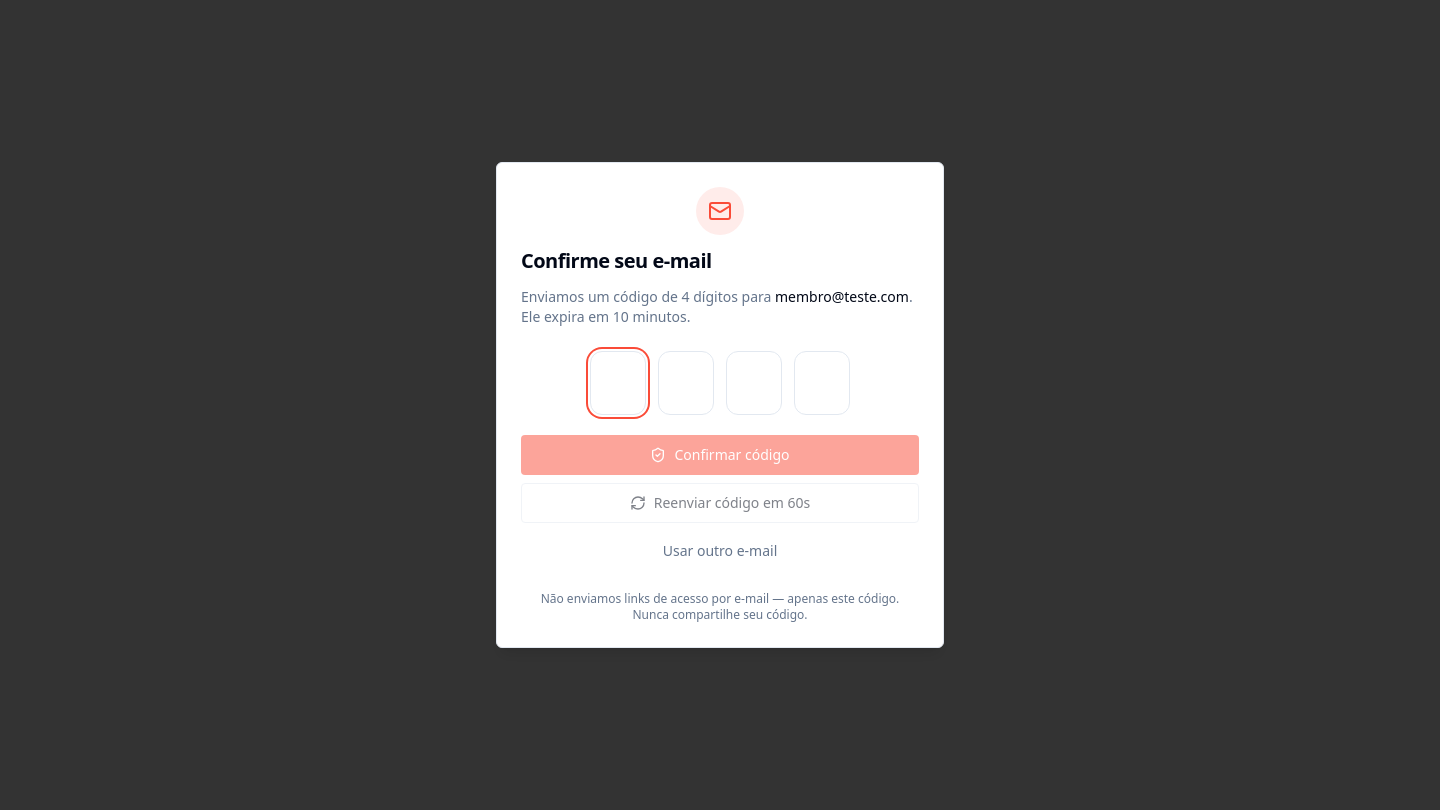
Scenario: EmailCodeVerificationModal › bloqueia após exceder tentativas
Type "2" into the field named "Dígito 1 de 4" at (618, 383), box [590,351,646,415]
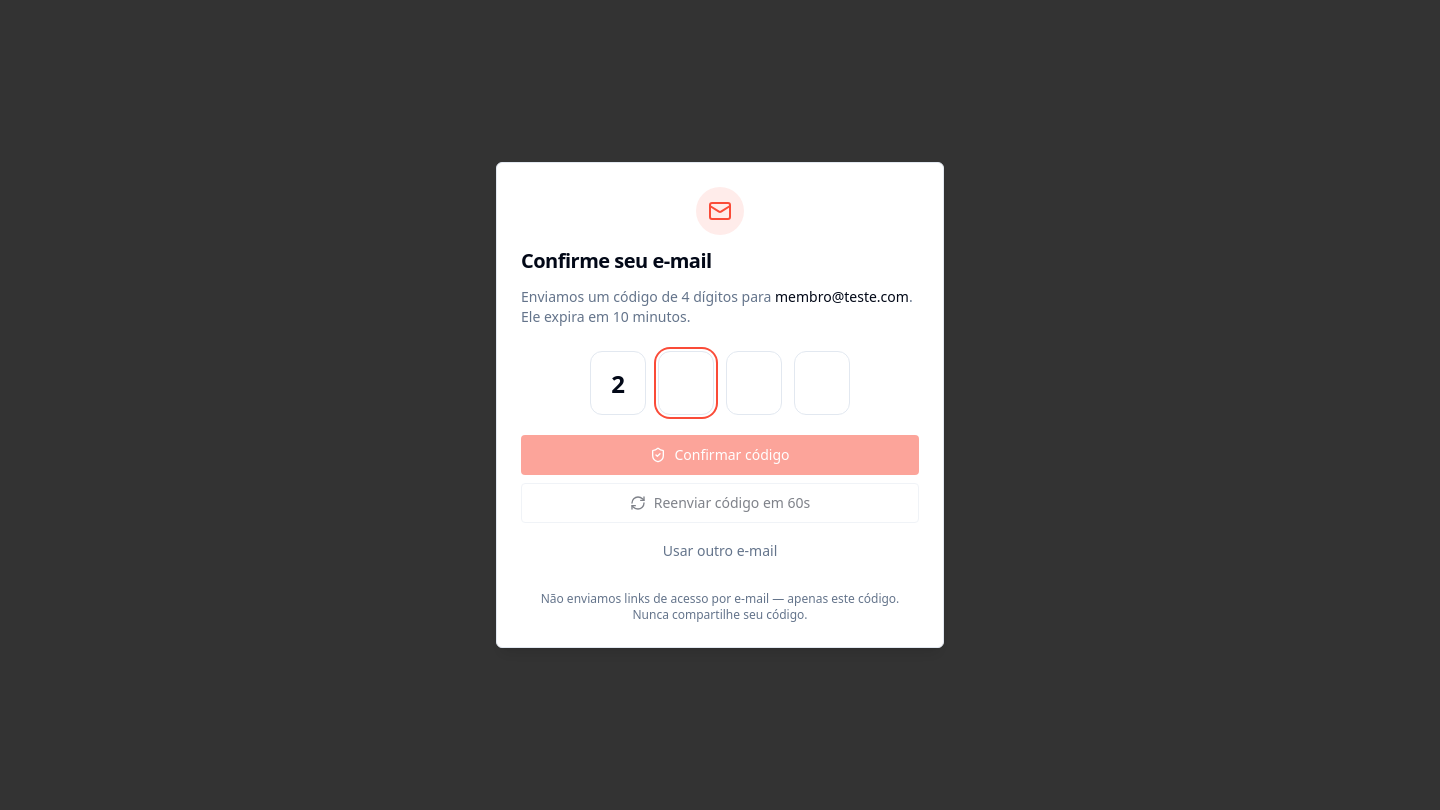
Type "2" into the field named "Dígito 2 de 4" at (686, 383), box [658,351,714,415]
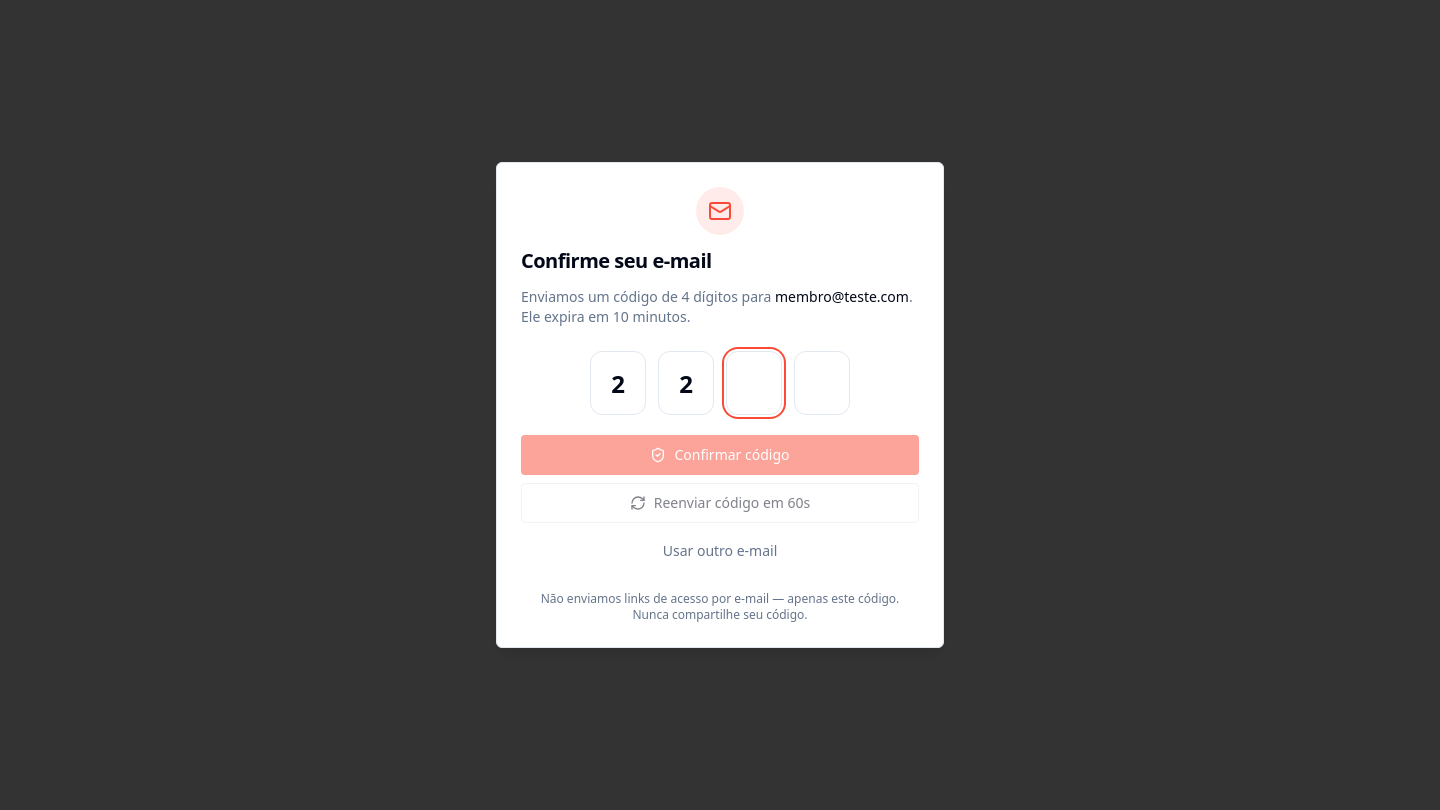
Type "2" into the field named "Dígito 3 de 4" at (754, 383), box [726,351,782,415]
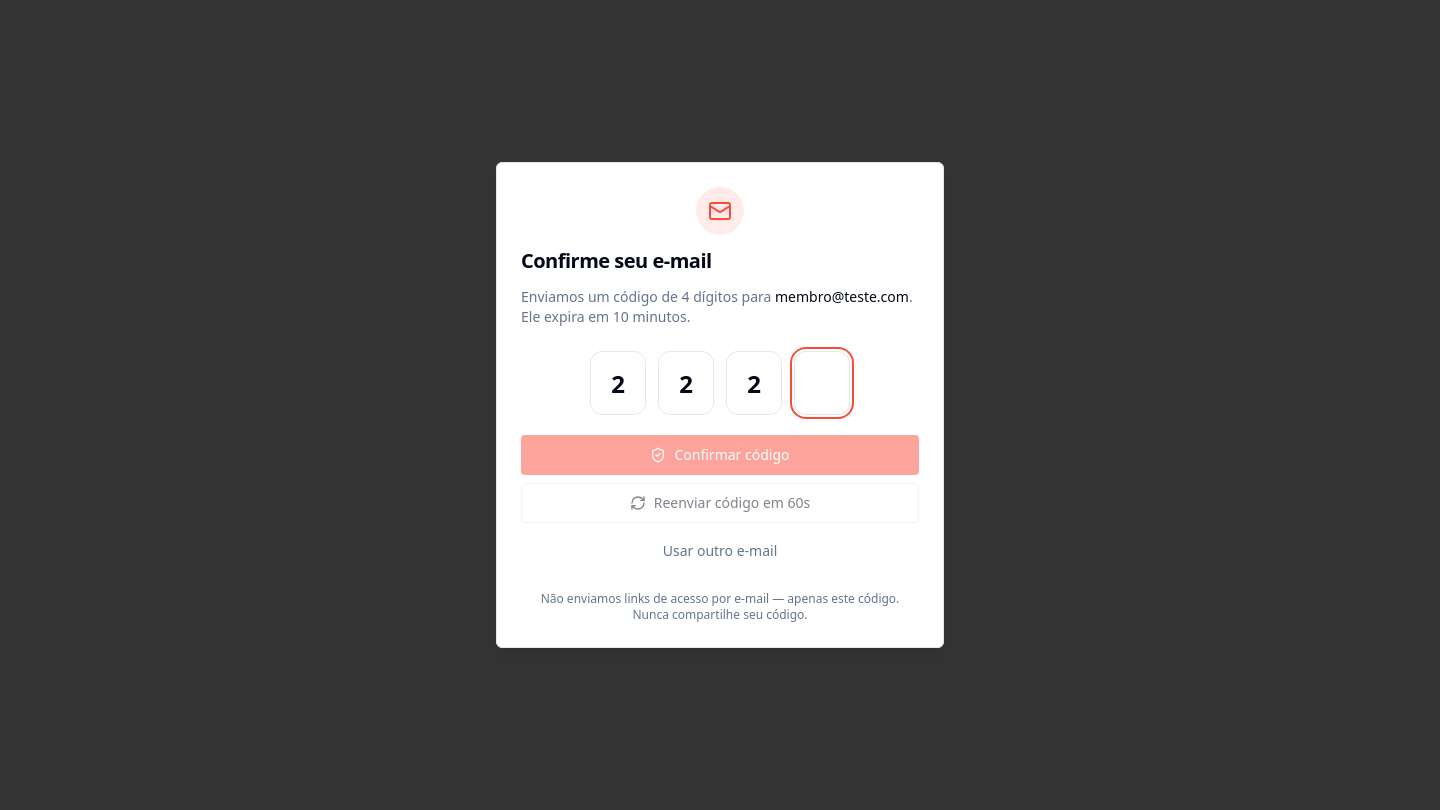
Type "2" into the field named "Dígito 4 de 4" at (822, 383), box [794,351,850,415]
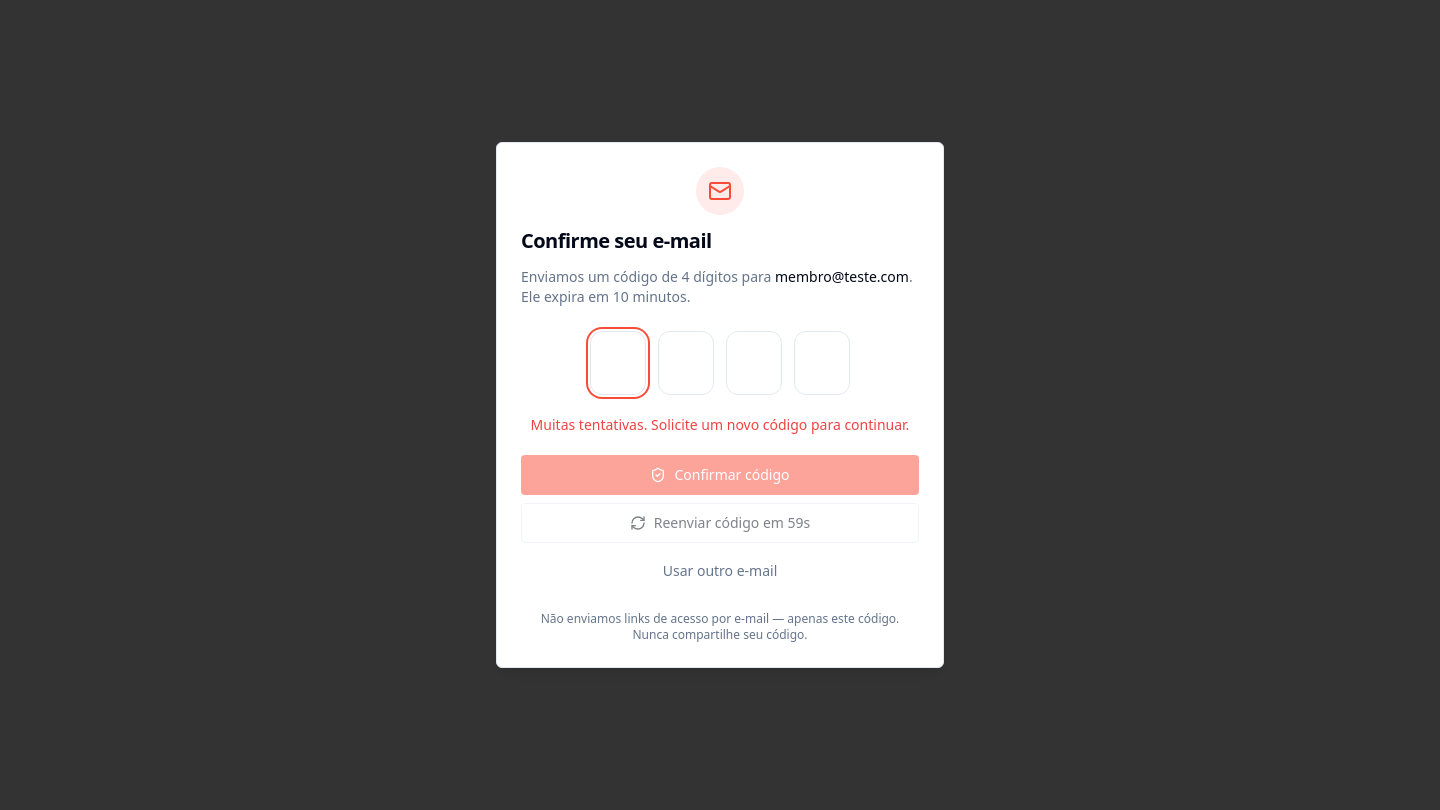
Expected: the message shows "tentativas", [531,415,909,434]
